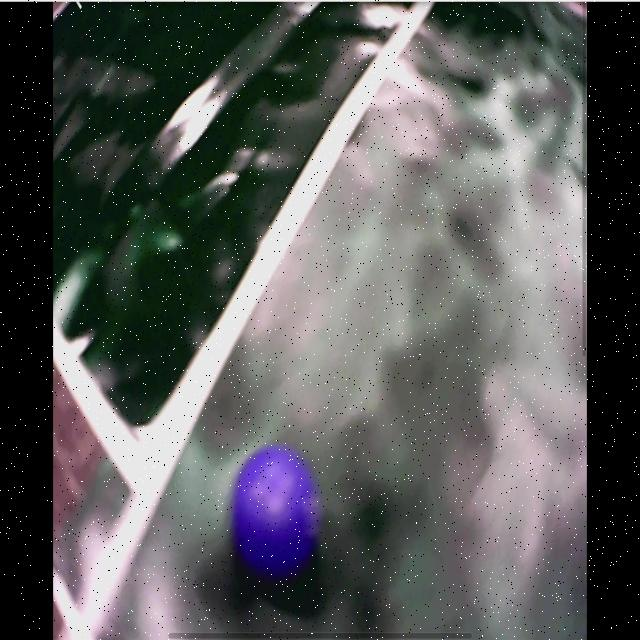ball: (234, 446, 323, 580)
